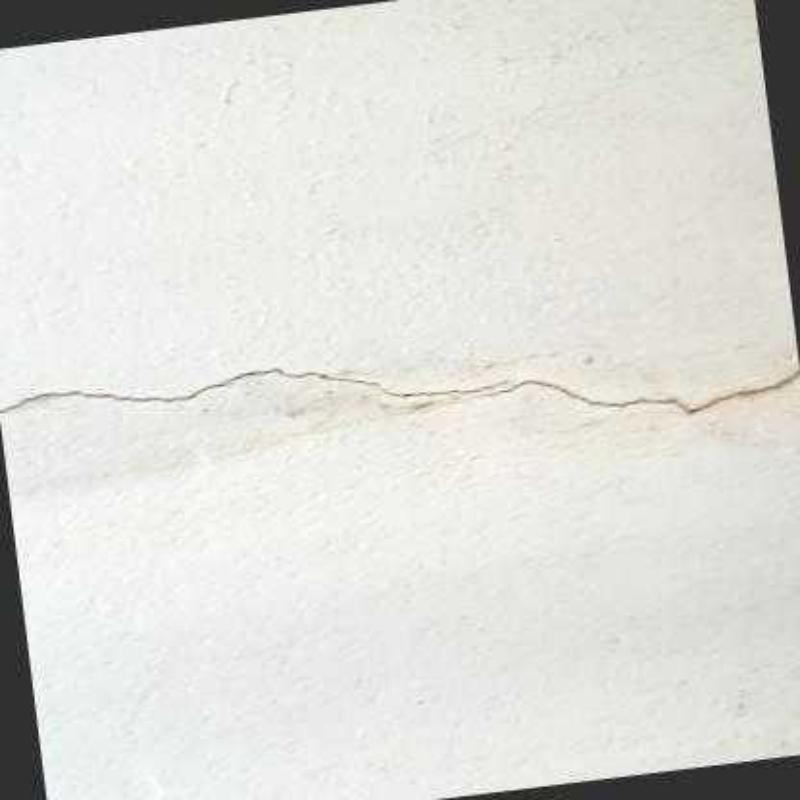pothole: (474, 369, 800, 414), (222, 369, 493, 396), (0, 384, 223, 413)
